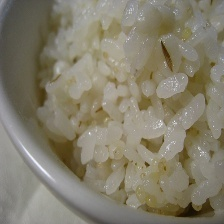rice: (26, 0, 224, 224)
